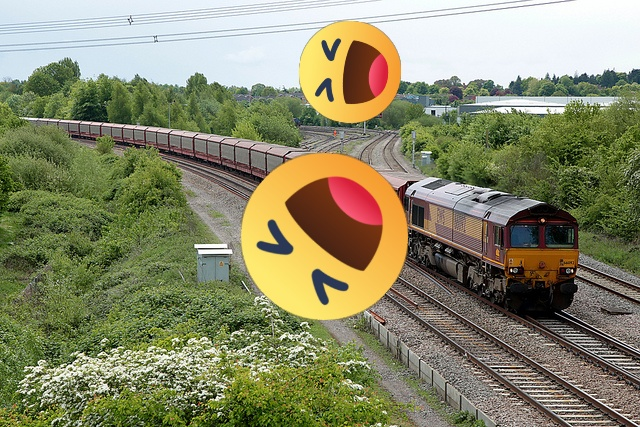haha: (241, 153, 408, 320), (299, 21, 401, 123)
